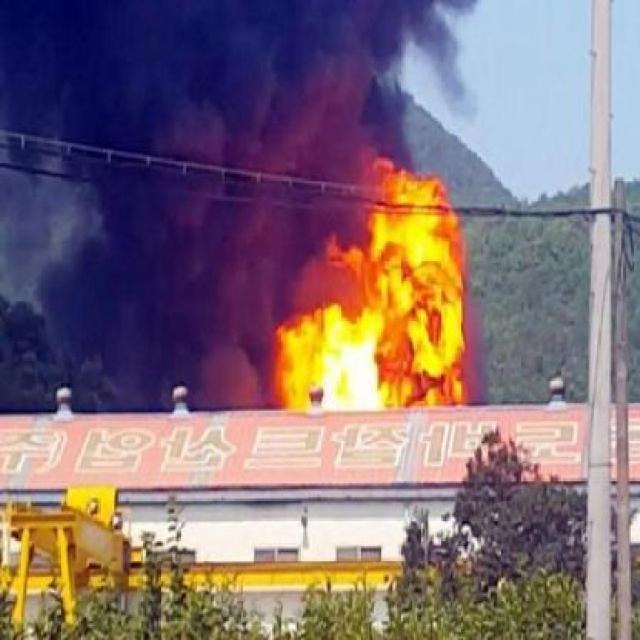Fire: (260, 129, 497, 420)
Smoke: (0, 1, 280, 412), (274, 0, 498, 248)
